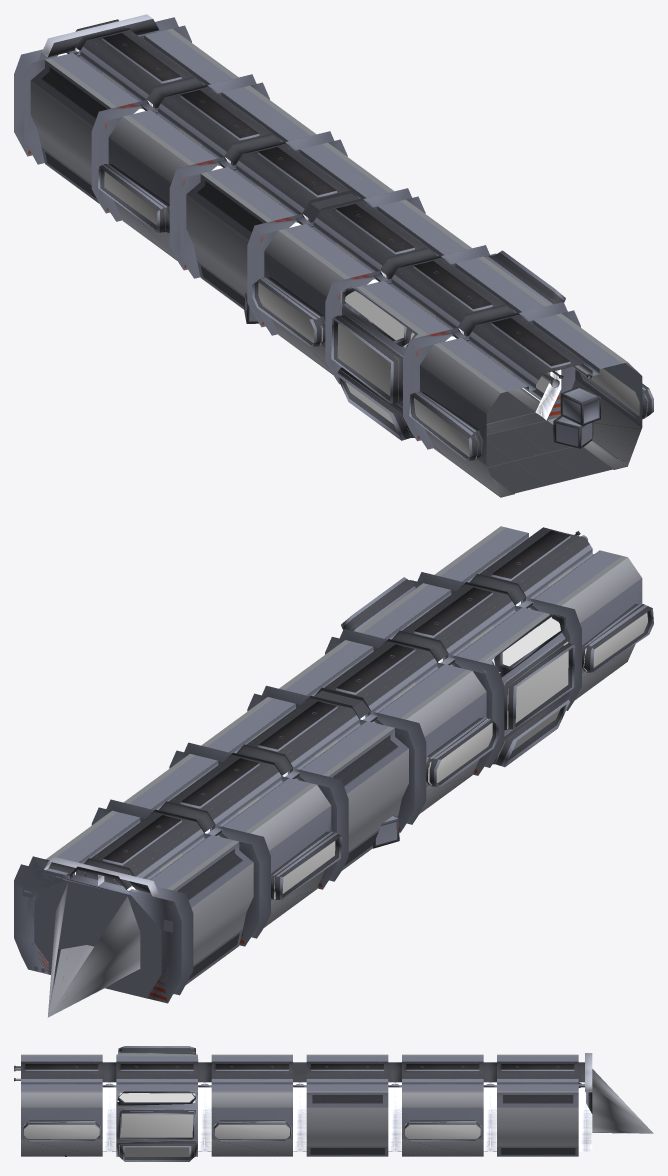
The model's file is kolidor.fbx.
The picture shows the model from 3 angles, top to bottom: view 1: azimuth 30°, elevation 25°; view 2: azimuth 150°, elevation 25°; view 3: azimuth 270°, elevation 25°; orthographic projection. The views are drawn at different scales.
Parts seen in each view (by area): view 1: Cube.056, Cube.069, Cube.041, Cube.023, Cube.018, Cube.010, Plane.035, Cube.065, Cube.070, Cube.050, Cube.068, Cube.005 (+27 smaller); view 2: Cube.025, Cube.056, Cube.069, Cube.041, Cube.023, Cube.018, š, Cube.010, Cube.011, Cube.005, Cube.040, Cube.068 (+22 smaller); view 3: Cube.043, Cube.060, Cube.057, Cube.059, Cube.007, Cube.065, š, Cube.029, Cube.034, Cube.037, Cube.053, Cube.070 (+26 smaller).
Part boxes in pixels (<box>): Cube.056: <box>331,287,422,440</box>; Cube.069: <box>409,345,500,496</box>; Cube.041: <box>98,117,188,259</box>; Cube.023: <box>252,231,344,372</box>; Cube.018: <box>30,60,111,202</box>; Cube.010: <box>186,174,266,308</box>; Plane.035: <box>486,420,613,493</box>; Cube.065: <box>572,362,653,465</box>; Cube.070: <box>469,314,591,384</box>; Cube.050: <box>45,28,238,108</box>; Cube.068: <box>434,313,627,392</box>; Cube.005: <box>123,85,316,165</box>; Cube.025: <box>27,857,168,998</box>; Cube.056: <box>484,614,575,767</box>; Cube.069: <box>562,557,653,698</box>; Cube.041: <box>251,785,341,926</box>; Cube.023: <box>406,671,498,812</box>; Cube.018: <box>173,842,253,983</box>; š: <box>47,883,141,1017</box>; Cube.010: <box>329,728,408,869</box>; Cube.011: <box>126,886,193,1003</box>; Cube.005: <box>123,754,316,833</box>; Cube.040: <box>279,640,471,719</box>; Cube.068: <box>434,526,627,605</box>; Cube.043: <box>116,1091,197,1161</box>; Cube.060: <box>306,1092,388,1155</box>; Cube.057: <box>497,1092,578,1155</box>; Cube.059: <box>402,1092,483,1155</box>; Cube.007: <box>211,1092,292,1155</box>; Cube.065: <box>21,1092,102,1155</box>; š: <box>592,1069,653,1133</box>; Cube.029: <box>306,1061,388,1082</box>; Cube.034: <box>402,1061,483,1082</box>; Cube.037: <box>497,1061,578,1082</box>; Cube.053: <box>116,1061,197,1082</box>; Cube.070: <box>21,1061,102,1082</box>.
Size of the model in its own units: 834 by 509 by 4102.
